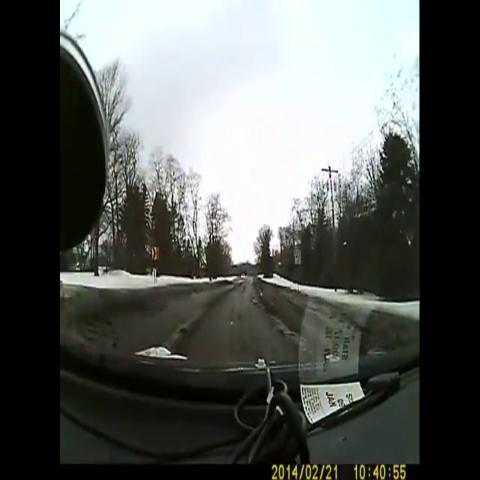pothole: (173, 309, 206, 344)
